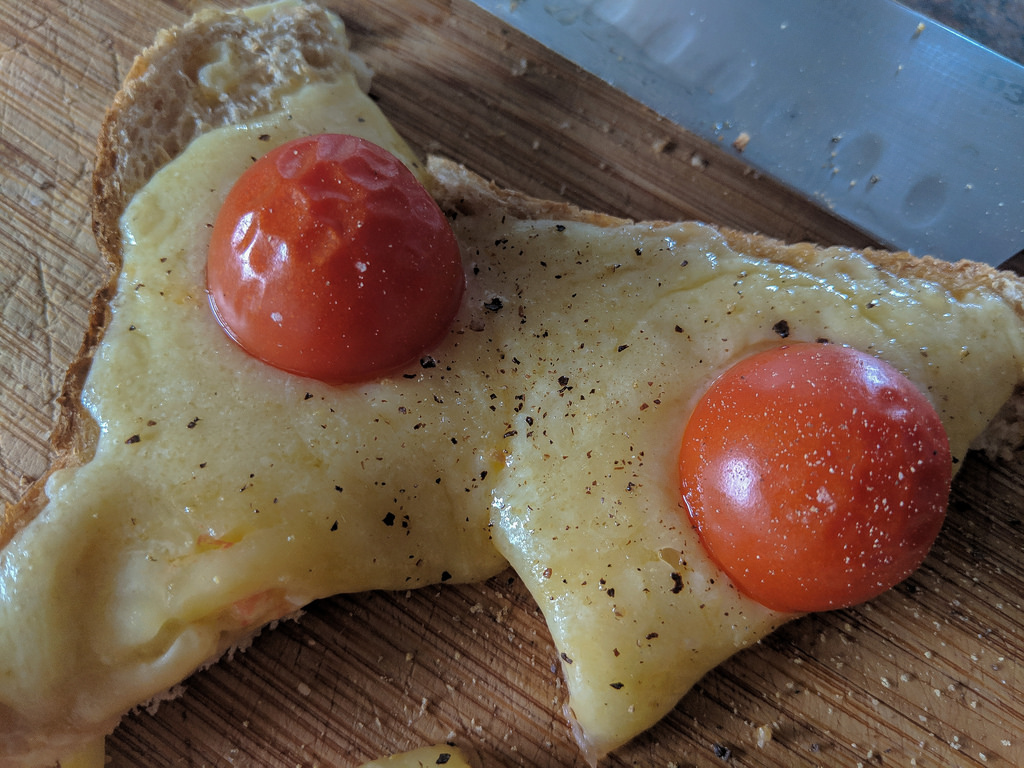fried egg: (26, 79, 533, 715), (530, 241, 1022, 730)
